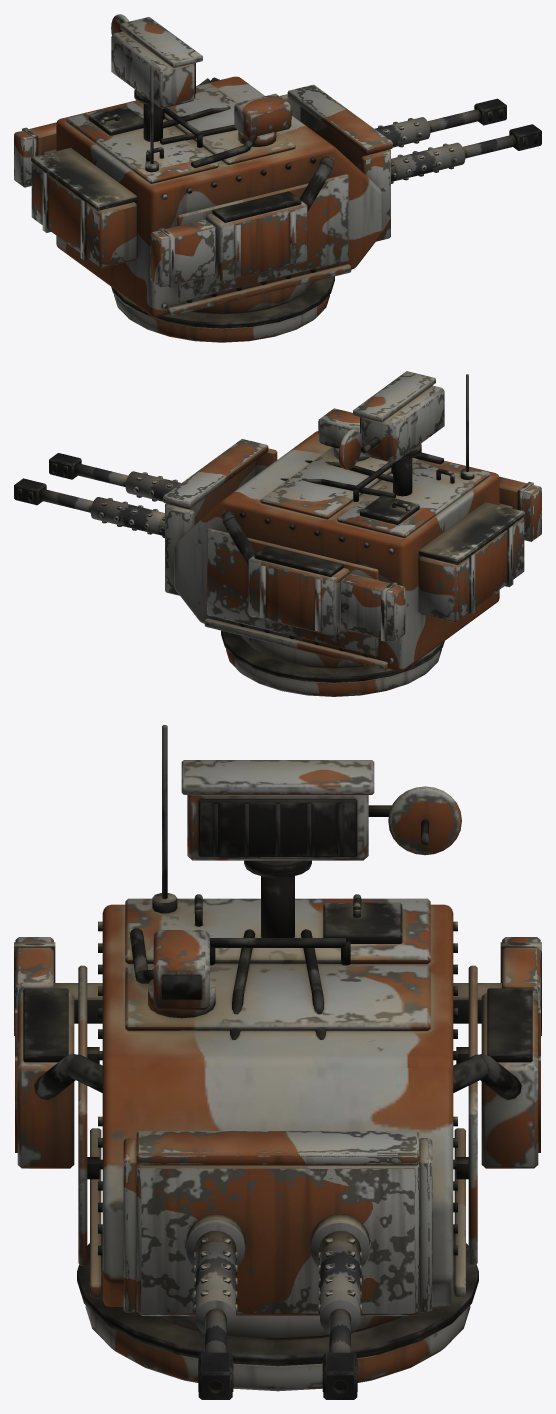
The model's file is turret_grach_evo_rust.glb.
The picture shows the model from 3 angles, top to bottom: view 1: azimuth 30°, elevation 25°; view 2: azimuth 150°, elevation 25°; view 3: azimuth 270°, elevation 25°; orthographic projection. The views are drawn at different scales.
Visible parts, largest first — view 1: turret_light_evo, guns, pods; view 2: turret_light_evo, guns, pods; view 3: turret_light_evo, guns, pods.
Part boxes in pixels (x1=…): turret_light_evo: x1=31, y1=14, x2=381, y2=342; guns: x1=280, y1=84, x2=541, y2=241; pods: x1=14, y1=122, x2=215, y2=287; turret_light_evo: x1=174, y1=371, x2=524, y2=696; guns: x1=14, y1=439, x2=277, y2=595; pods: x1=340, y1=476, x2=541, y2=641; turret_light_evo: x1=15, y1=725, x2=540, y2=1391; guns: x1=123, y1=1131, x2=432, y2=1399; pods: x1=14, y1=937, x2=541, y2=1035.
Bounding box in the file's own units: 1.86 × 1.09 × 1.05.
3 materials, 3 textured.
